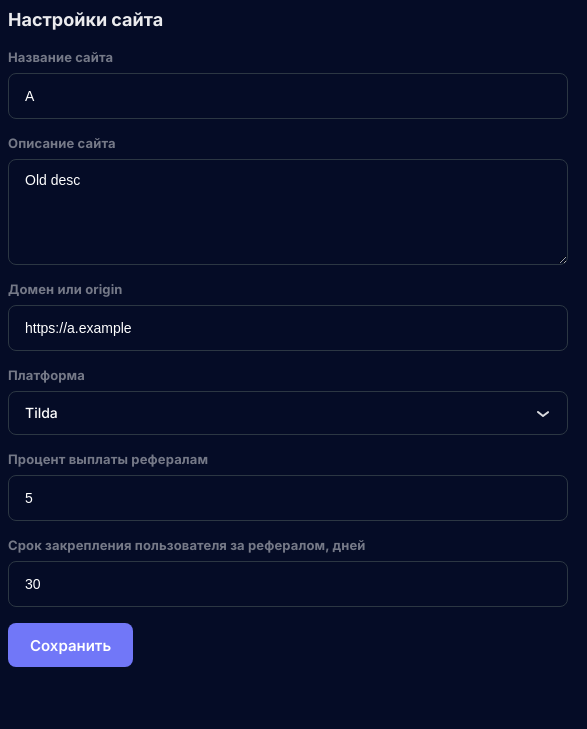
Test case: ProjectSettingsPage › after save keeps submitted referral_lock_days when response omits both top-level and config key
Replace the text in the number field labelled "Срок закрепления пользователя за рефералом, дней" with "71": (288, 584) [9,562,567,606]
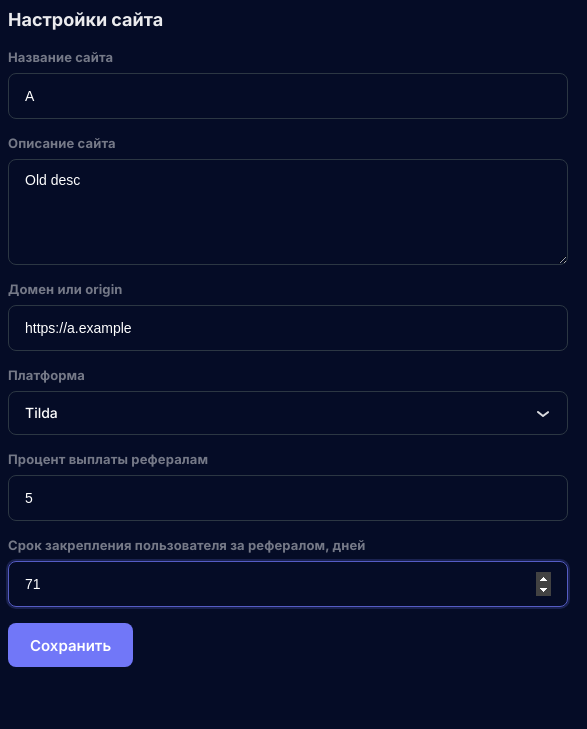
Click the button "Сохранить": (71, 645) [8,623,133,667]
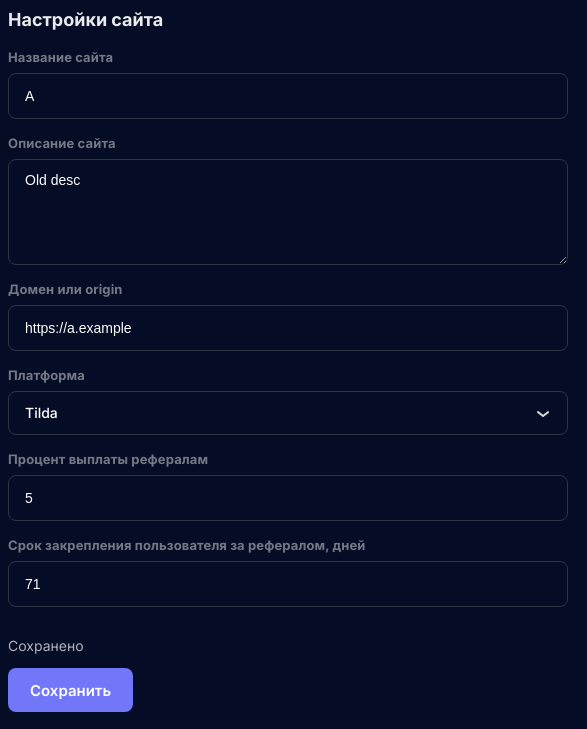
expect the text "Сохранено" is shown: met, box [8,637,84,654]
